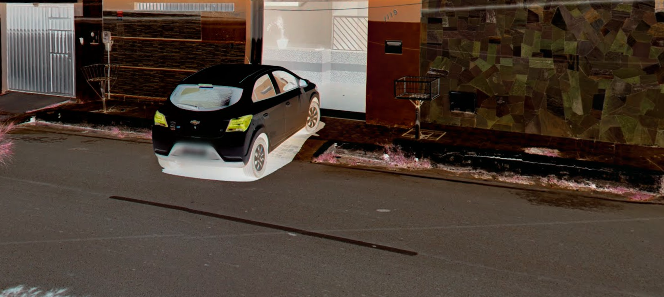car: (149, 51, 326, 185)
